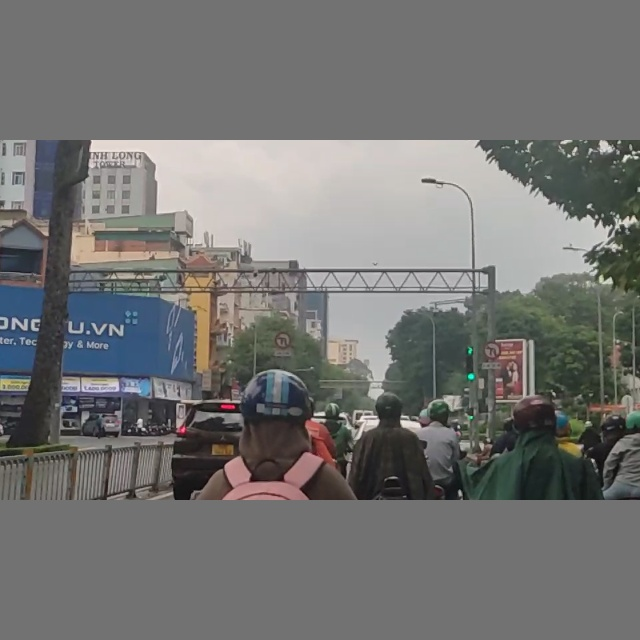P.124c: (273, 331, 292, 349), (484, 340, 501, 359)
